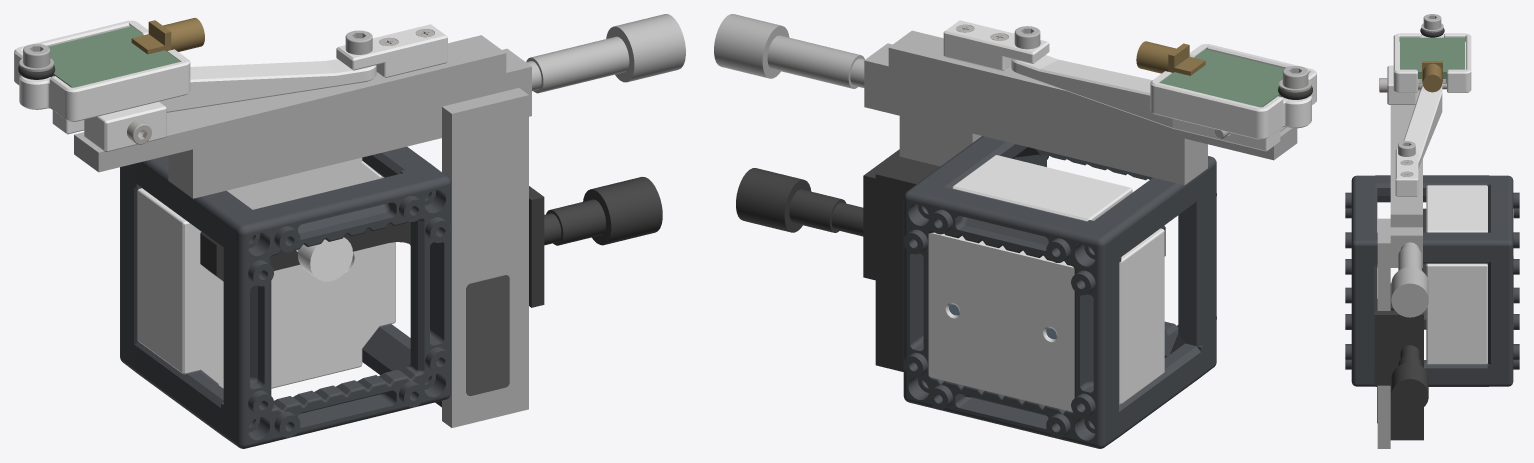
The model's file is ASS_-_3005_-_CUBMANXYST02DIA.glb.
3 renders of one model, left to right at view 1: azimuth 30°, elevation 25°; view 2: azimuth 150°, elevation 25°; view 3: azimuth 270°, elevation 25°, orthographic. The views are drawn at different scales.
Parts seen in each view (by area): view 1: BUY - Microscope XY stage - type 02 --- X stage:1, PRT - 1003 - CUBHLF111 - V04:2, PRT - 3014 - UPPCLPPCE:1, BUY - Microscope XY stage - type 02 --- Y stage:1, BUY - Microscope XY stage - type 02 --- Base:1, PRT - 1003 - CUBHLF111 - V04:1, PRT - 3007 - DIAPLAHOL - A:1, PRT - 3012 - LVR:1, BRD - Diamands board with HF antenna:1, PRT - 5005 - STKCAUHNDCRU25x10:1, PRT - 3013 - BRG:1, PRT - 3011 - MNTZAX:1; view 2: PRT - 1003 - CUBHLF111 - V04:1, BUY - Microscope XY stage - type 02 --- X stage:1, PRT - 3015 - LOWCLPPCE:1, BUY - Microscope XY stage - type 02 --- Base:1, PRT - 3014 - UPPCLPPCE:1, PRT - 1003 - CUBHLF111 - V04:2, BUY - Microscope XY stage - type 02 --- Y stage:1, PRT - 3007 - DIAPLAHOL - A:1, BRD - Diamands board with HF antenna:1, PRT - 3012 - LVR:1, PRT - 3013 - BRG:1; view 3: PRT - 3014 - UPPCLPPCE:1, PRT - 1003 - CUBHLF111 - V04:2, PRT - 1003 - CUBHLF111 - V04:1, BUY - Microscope XY stage - type 02 --- Base:1, BUY - Microscope XY stage - type 02 --- X stage:1, BRD - Diamands board with HF antenna:1, BUY - Microscope XY stage - type 02 --- Y stage:1, PRT - 3007 - DIAPLAHOL - A:1, PRT - 3012 - LVR:1, PRT - 3013 - BRG:1, PRT - 3011 - MNTZAX:1, ISO 4762 - Hex socket head cap screw - M3 x 8 - A2-50:1 (+1 smaller).
Boxes of the visible parts, x1,y1,x2,y2 form: BUY - Microscope XY stage - type 02 --- X stage:1: [168, 14, 685, 427]; PRT - 1003 - CUBHLF111 - V04:2: [136, 155, 451, 448]; PRT - 3014 - UPPCLPPCE:1: [137, 157, 395, 388]; BUY - Microscope XY stage - type 02 --- Y stage:1: [74, 35, 506, 172]; BUY - Microscope XY stage - type 02 --- Base:1: [200, 177, 662, 407]; PRT - 1003 - CUBHLF111 - V04:1: [120, 146, 431, 435]; PRT - 3007 - DIAPLAHOL - A:1: [14, 20, 190, 121]; PRT - 3012 - LVR:1: [52, 59, 376, 134]; BRD - Diamands board with HF antenna:1: [48, 18, 204, 87]; PRT - 5005 - STKCAUHNDCRU25x10:1: [466, 275, 509, 395]; PRT - 3013 - BRG:1: [336, 24, 447, 77]; PRT - 3011 - MNTZAX:1: [84, 101, 166, 152]; PRT - 1003 - CUBHLF111 - V04:1: [903, 136, 1200, 448]; BUY - Microscope XY stage - type 02 --- X stage:1: [714, 14, 1207, 185]; PRT - 3015 - LOWCLPPCE:1: [928, 232, 1074, 411]; BUY - Microscope XY stage - type 02 --- Base:1: [736, 149, 1165, 371]; PRT - 3014 - UPPCLPPCE:1: [952, 155, 1164, 404]; PRT - 1003 - CUBHLF111 - V04:2: [925, 147, 1216, 384]; BUY - Microscope XY stage - type 02 --- Y stage:1: [888, 30, 1297, 160]; PRT - 3007 - DIAPLAHOL - A:1: [1150, 44, 1316, 139]; BRD - Diamands board with HF antenna:1: [1136, 41, 1284, 107]; PRT - 3012 - LVR:1: [1011, 55, 1280, 151]; PRT - 3013 - BRG:1: [943, 20, 1049, 70]; PRT - 3014 - UPPCLPPCE:1: [1426, 185, 1487, 364]; PRT - 1003 - CUBHLF111 - V04:2: [1345, 175, 1487, 386]; PRT - 1003 - CUBHLF111 - V04:1: [1377, 175, 1519, 386]; BUY - Microscope XY stage - type 02 --- Base:1: [1374, 208, 1428, 440]; BUY - Microscope XY stage - type 02 --- X stage:1: [1377, 218, 1428, 448]; BRD - Diamands board with HF antenna:1: [1400, 37, 1464, 92]; BUY - Microscope XY stage - type 02 --- Y stage:1: [1390, 89, 1422, 227]; PRT - 3007 - DIAPLAHOL - A:1: [1393, 33, 1471, 92]; PRT - 3012 - LVR:1: [1403, 84, 1442, 168]; PRT - 3013 - BRG:1: [1395, 149, 1418, 196]; PRT - 3011 - MNTZAX:1: [1387, 65, 1416, 104]; ISO 4762 - Hex socket head cap screw - M3 x 8 - A2-50:1: [1423, 14, 1441, 29].
Size of the model in its own units: 148 by 97.9 by 53.8.
